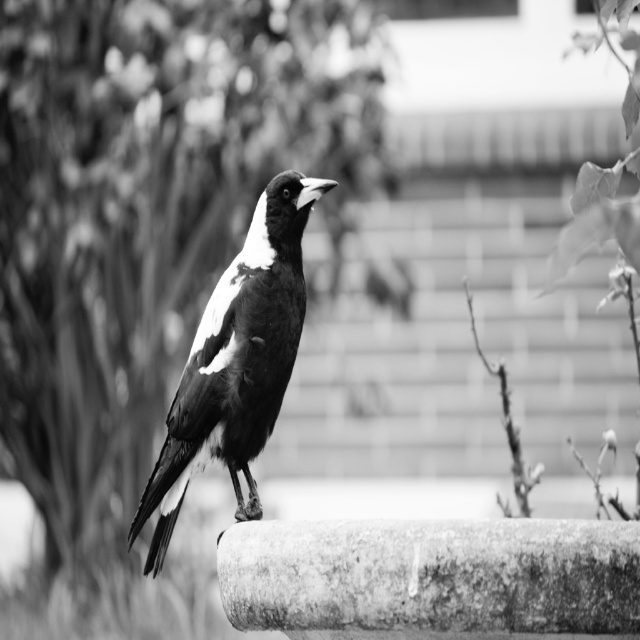Magpie: (122, 171, 342, 573)
